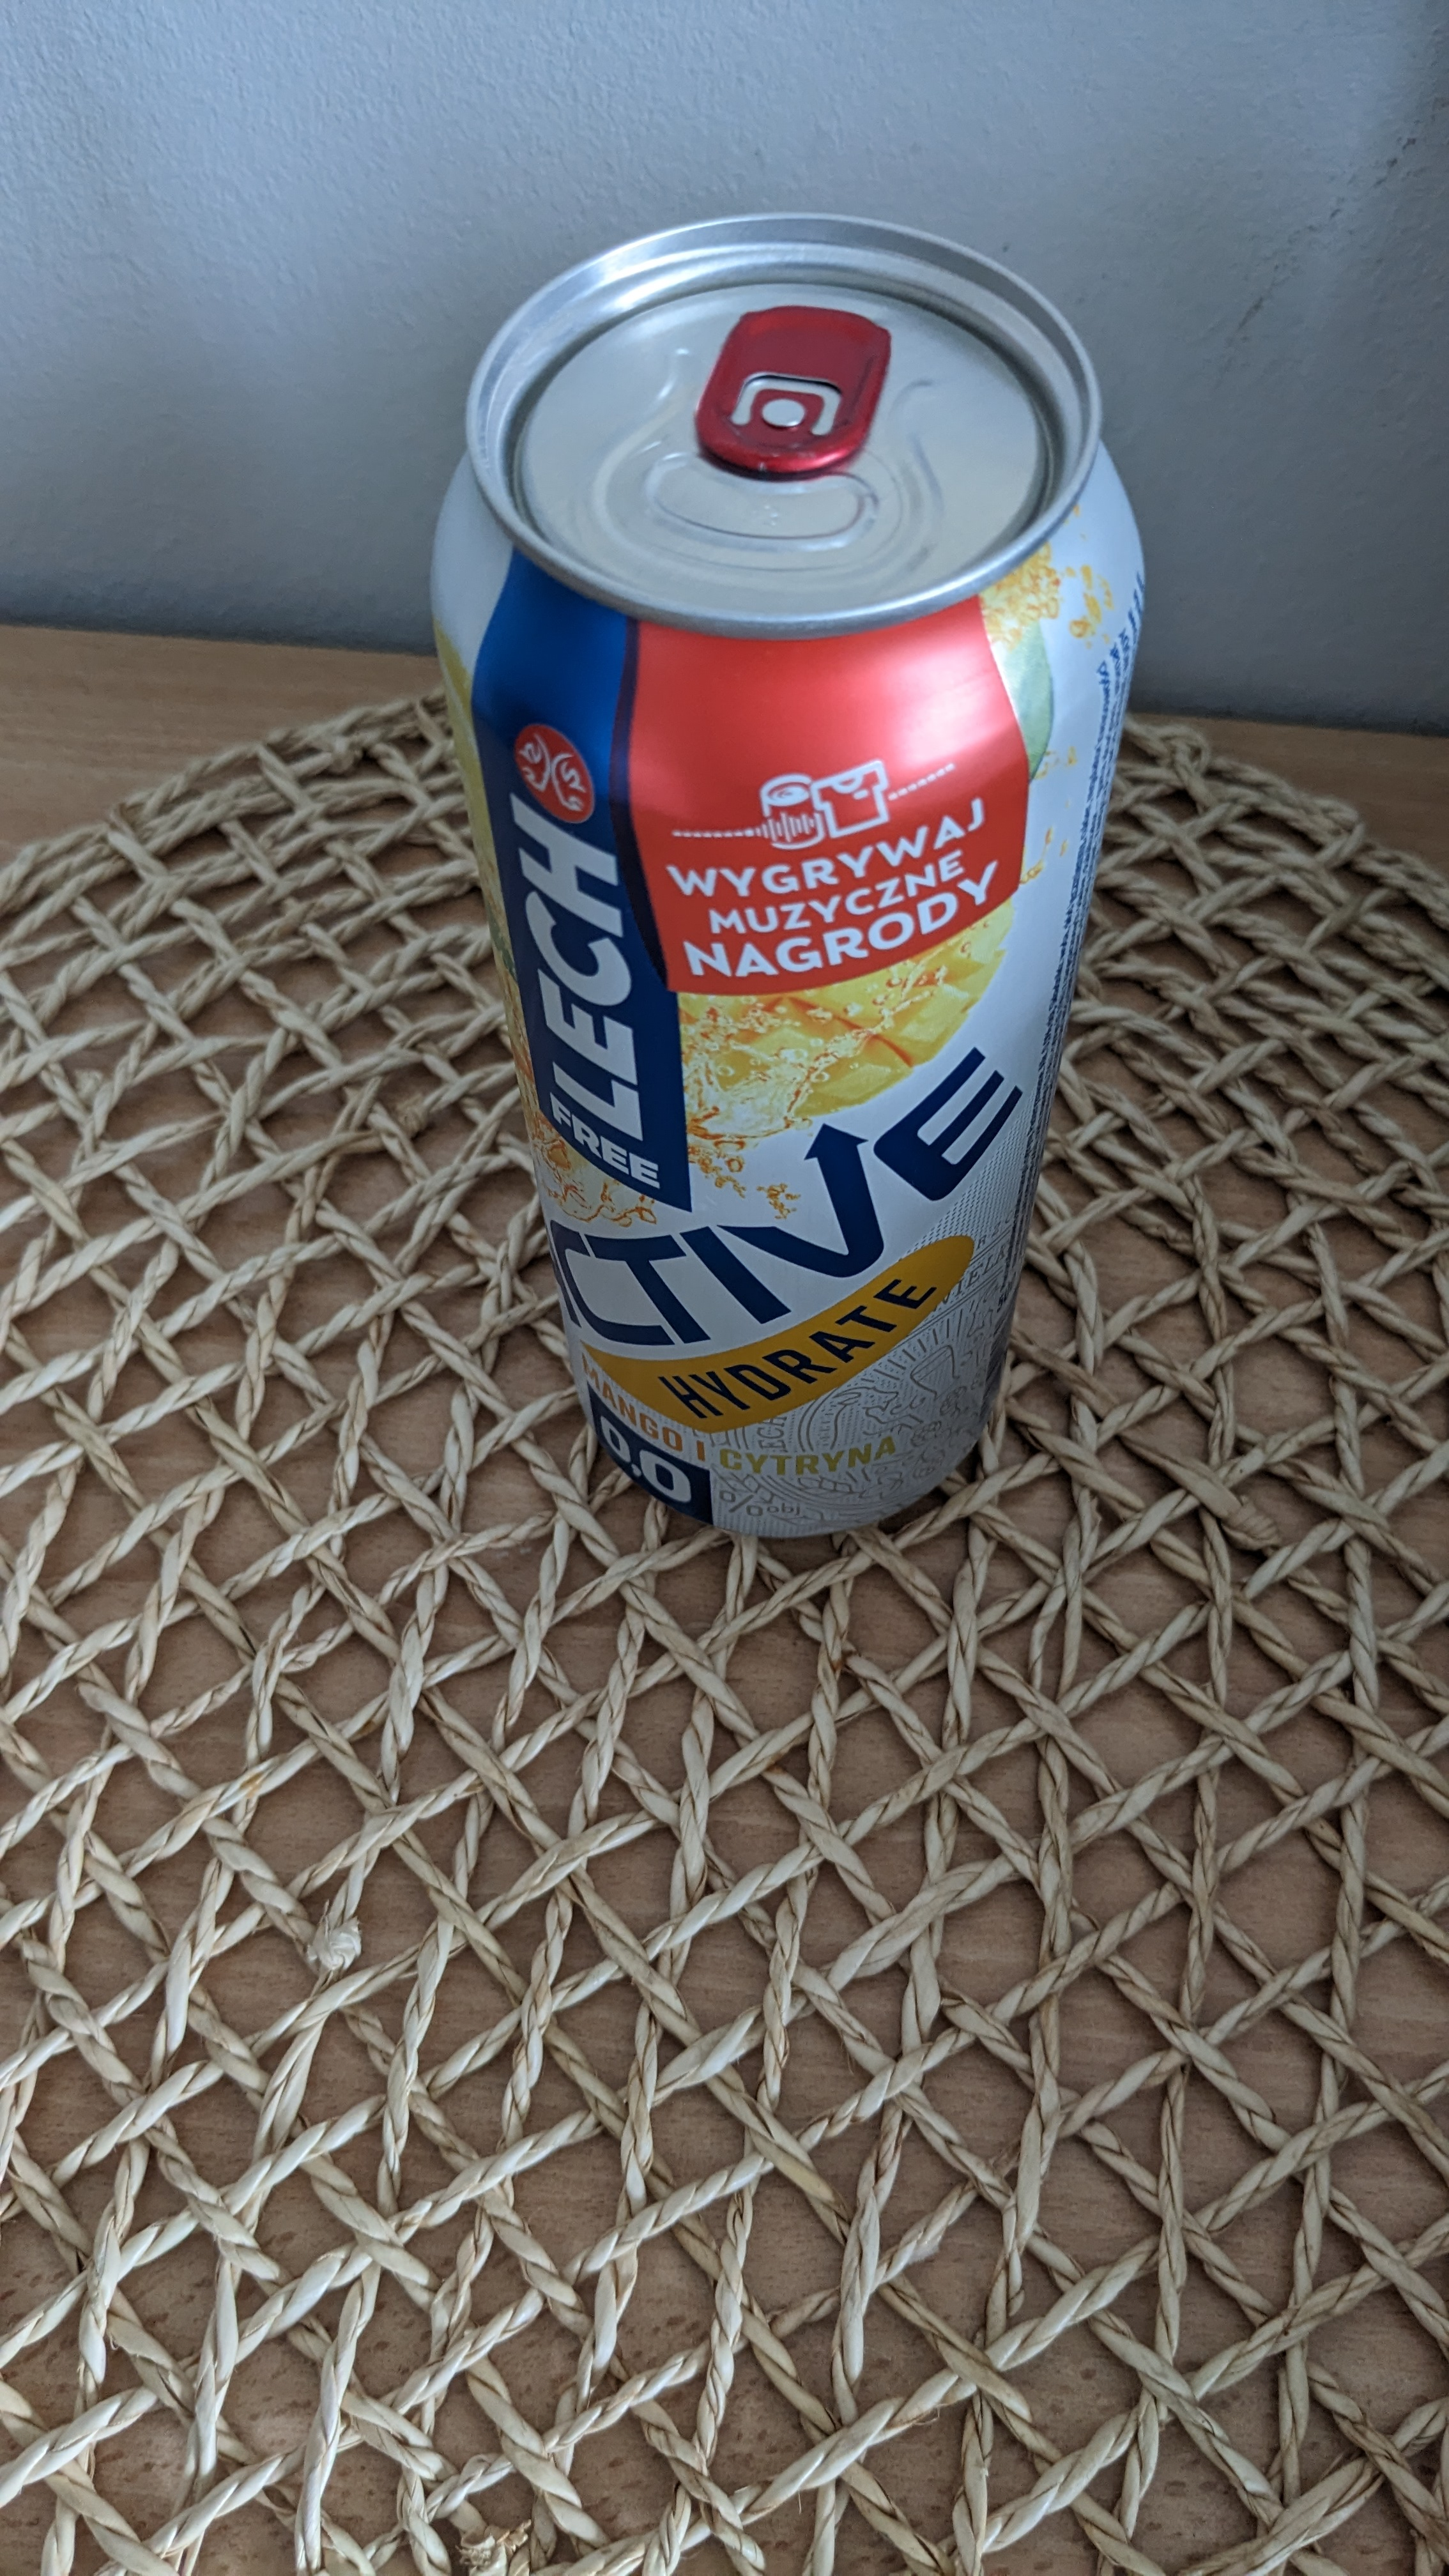lech-active: (426, 230, 1196, 1605)
